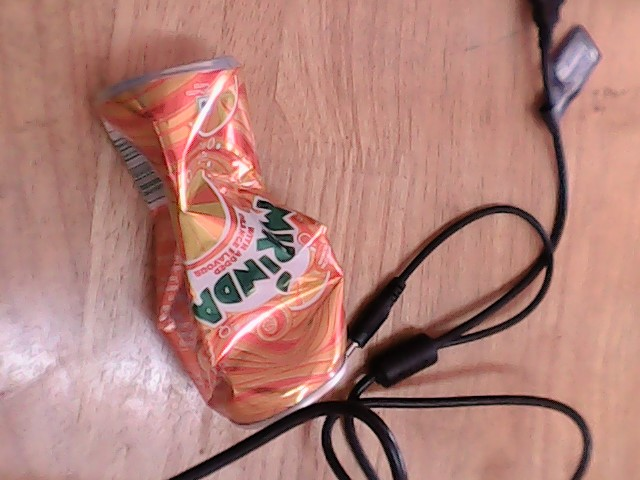Metal: (107, 90, 321, 413)
